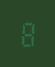eight: (19, 20, 34, 47)
